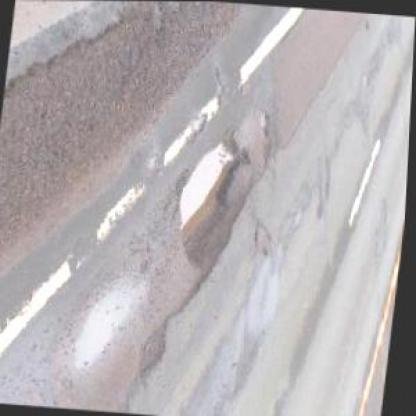pothole: (168, 128, 259, 270), (134, 323, 174, 377), (258, 109, 276, 136)
